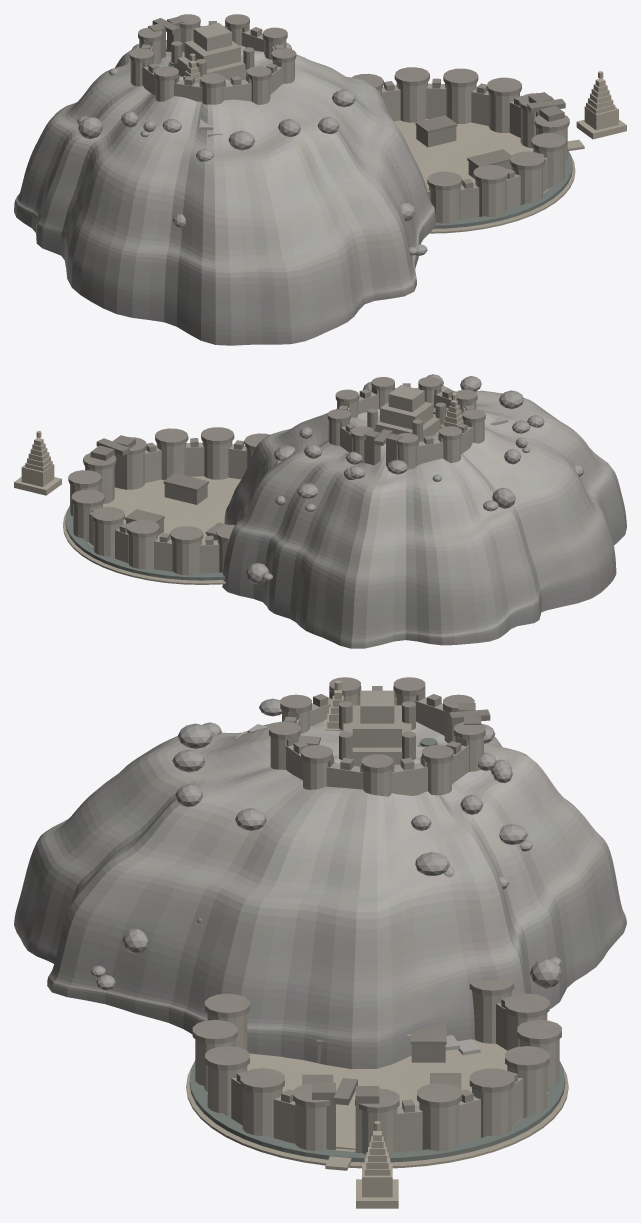
The model's file is ballari-fort.glb.
The picture shows the model from 3 angles, top to bottom: view 1: azimuth 30°, elevation 25°; view 2: azimuth 150°, elevation 25°; view 3: azimuth 270°, elevation 25°; orthographic projection. The views are drawn at different scales.
Parts seen in each view (by area): view 1: geometry_0; view 2: geometry_0; view 3: geometry_0.
Part boxes in pixels (x1,y1,x2,y2): geometry_0: (14, 14, 626, 345); geometry_0: (14, 374, 626, 648); geometry_0: (14, 677, 626, 1208).
Bounding box in the file's own units: 0.6 × 0.2002 × 0.4259.
